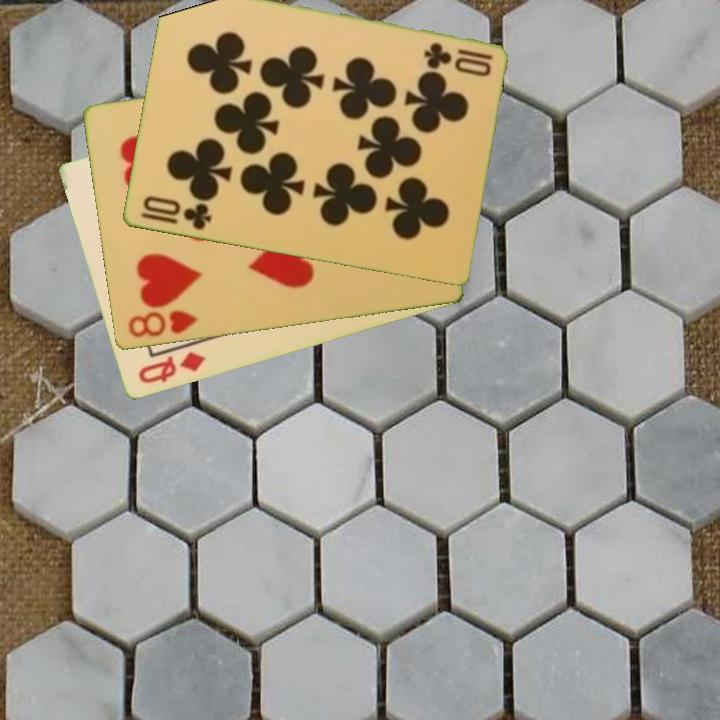10c: (137, 193, 214, 233), (420, 39, 496, 79)
8h: (124, 307, 201, 341)
Qd: (134, 349, 209, 387)
